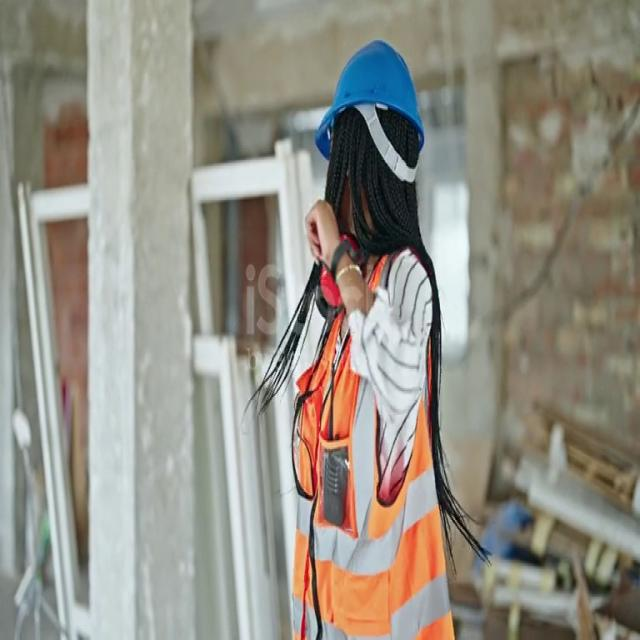capacete: (307, 28, 436, 174)
